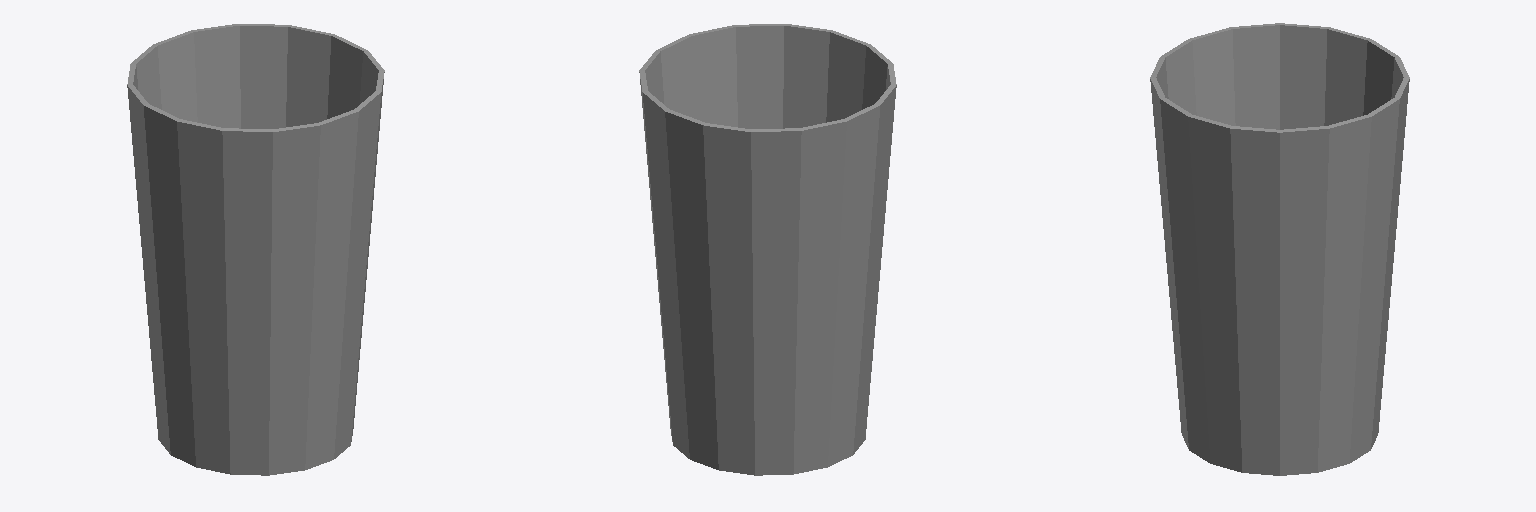
File: Glass_low_poly.obj
3 renders of one model, left to right at view 1: azimuth 30°, elevation 25°; view 2: azimuth 150°, elevation 25°; view 3: azimuth 270°, elevation 25°, orthographic.
Parts seen in each view (by area): view 1: glass; view 2: glass; view 3: glass.
Part boxes in pixels (bbox=[...]): glass: bbox=[127, 24, 384, 475]; glass: bbox=[639, 24, 896, 475]; glass: bbox=[1150, 23, 1409, 475].
Size of the model in its own units: 0.132 by 0.2002 by 0.132.